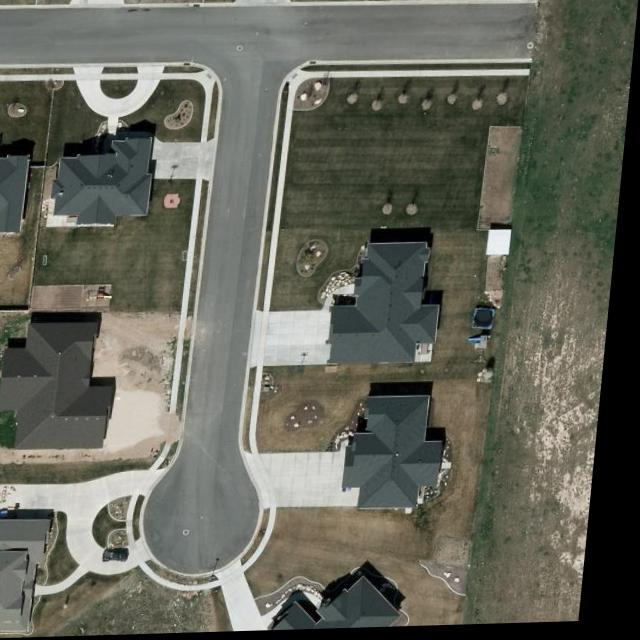vehicle: (113, 549, 141, 565)
